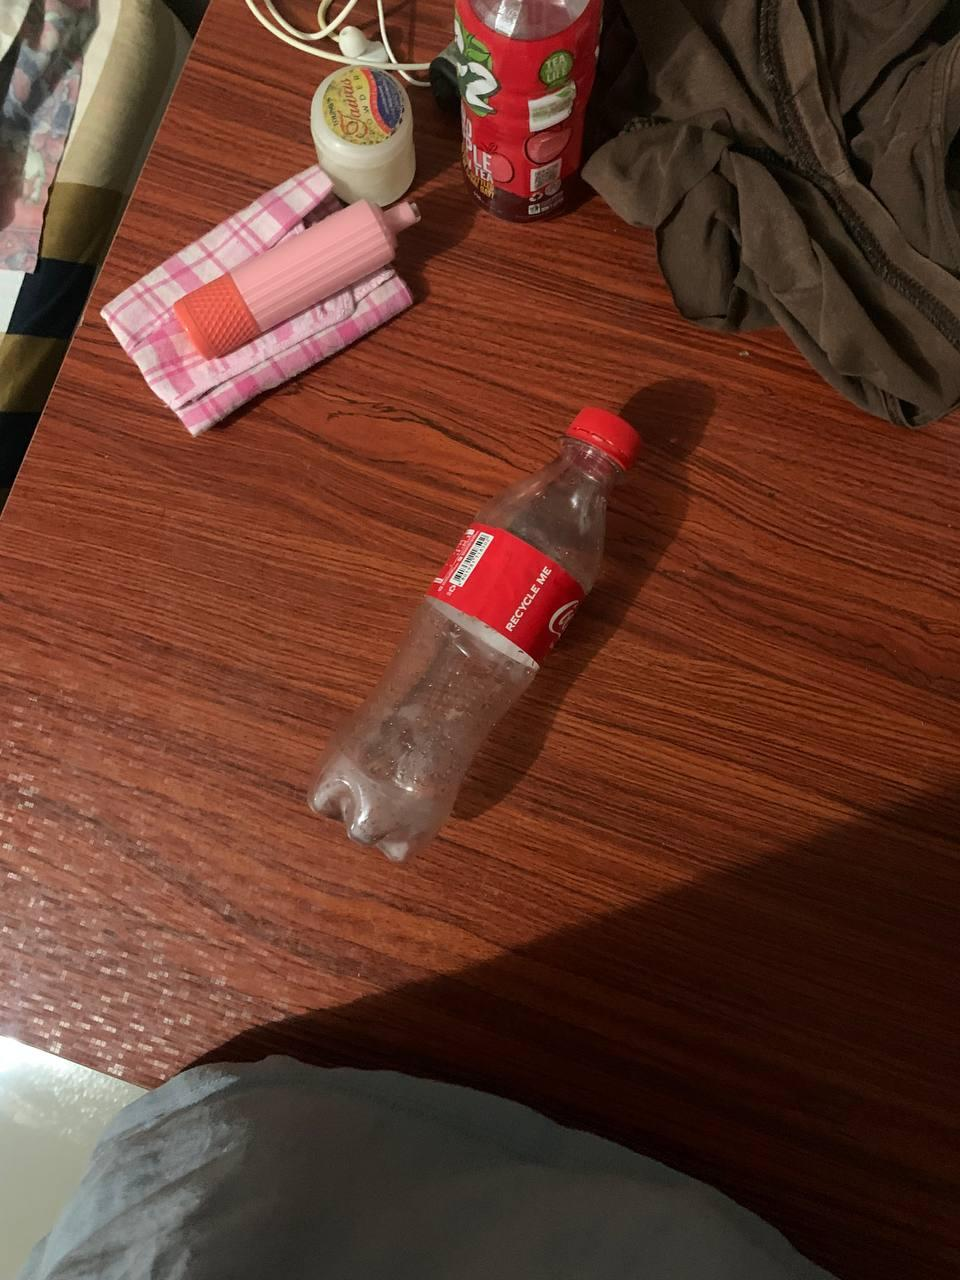plastic: (284, 385, 674, 888)
